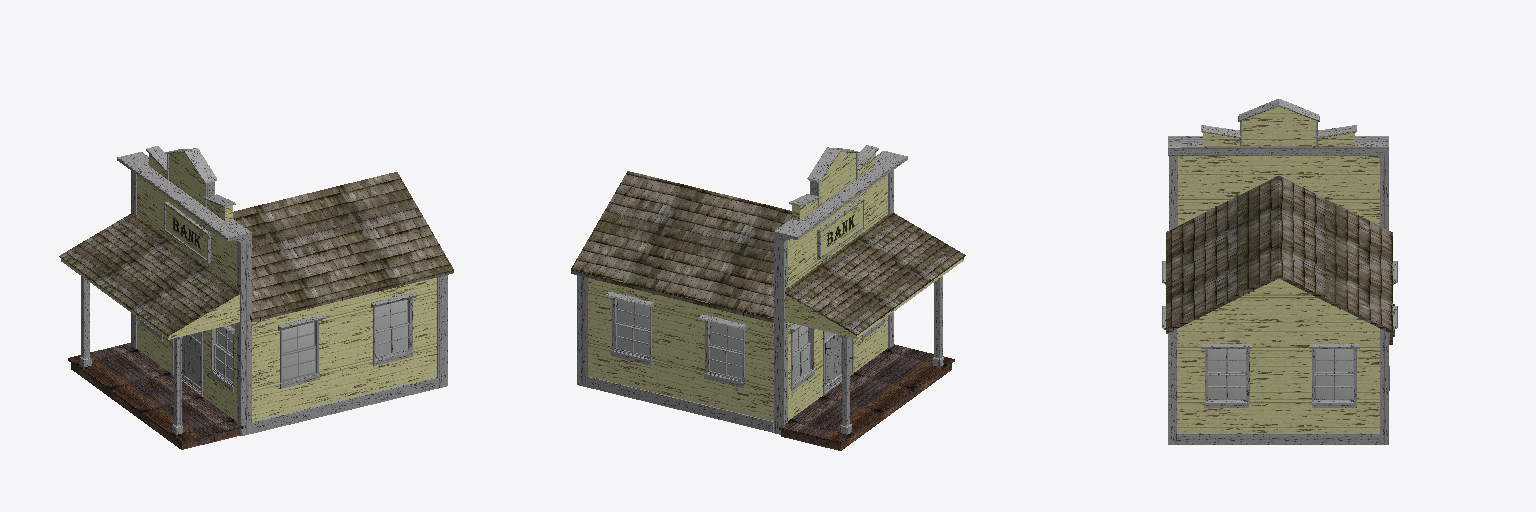
The picture shows the model from 3 angles: view 1: azimuth 30°, elevation 25°; view 2: azimuth 150°, elevation 25°; view 3: azimuth 270°, elevation 25°; orthographic projection.
Parts seen in each view (by area): view 1: BANK; view 2: BANK; view 3: BANK.
Boxes of the visible parts, x1,y1,x2,y2 form: BANK: [59, 146, 453, 449]; BANK: [571, 145, 965, 450]; BANK: [1162, 99, 1397, 444].
Size of the model in its own units: 428 by 351 by 305.
14 materials, 8 textured.